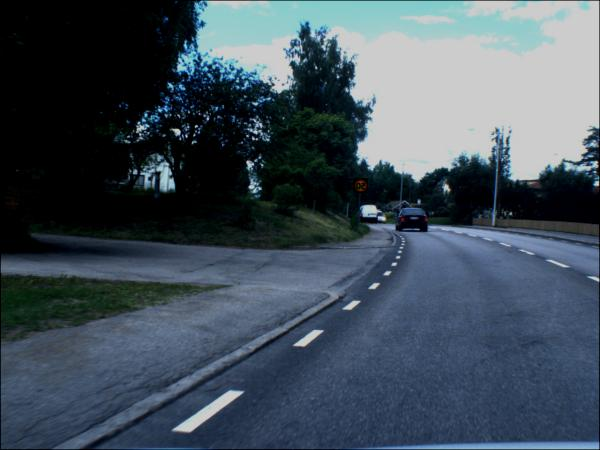50_SIGN: (353, 179, 369, 195)
